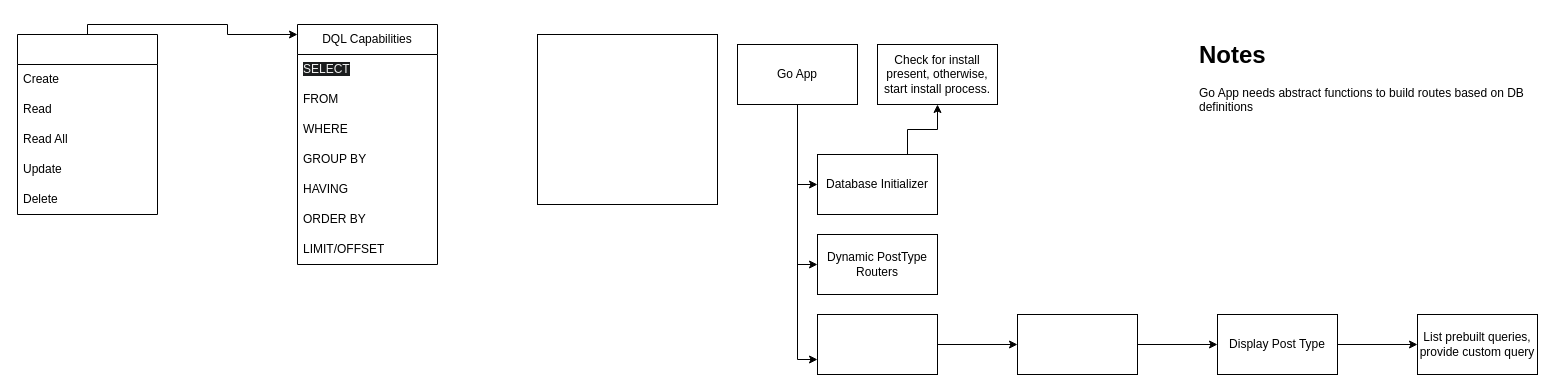
Image size: 1555x392. Some labels were removed from this diagram. The shapes that lost their labels are listed below. From the top down, each one's box as (x1, y1, x2, y2) in pixels, then its label:
(16, 34, 158, 214): Query Factory
(536, 34, 718, 204): Notes: GoApp needs abstract functions to build routes based on db
(816, 314, 938, 374): Admin Front End
(1016, 314, 1138, 374): Page Builder
